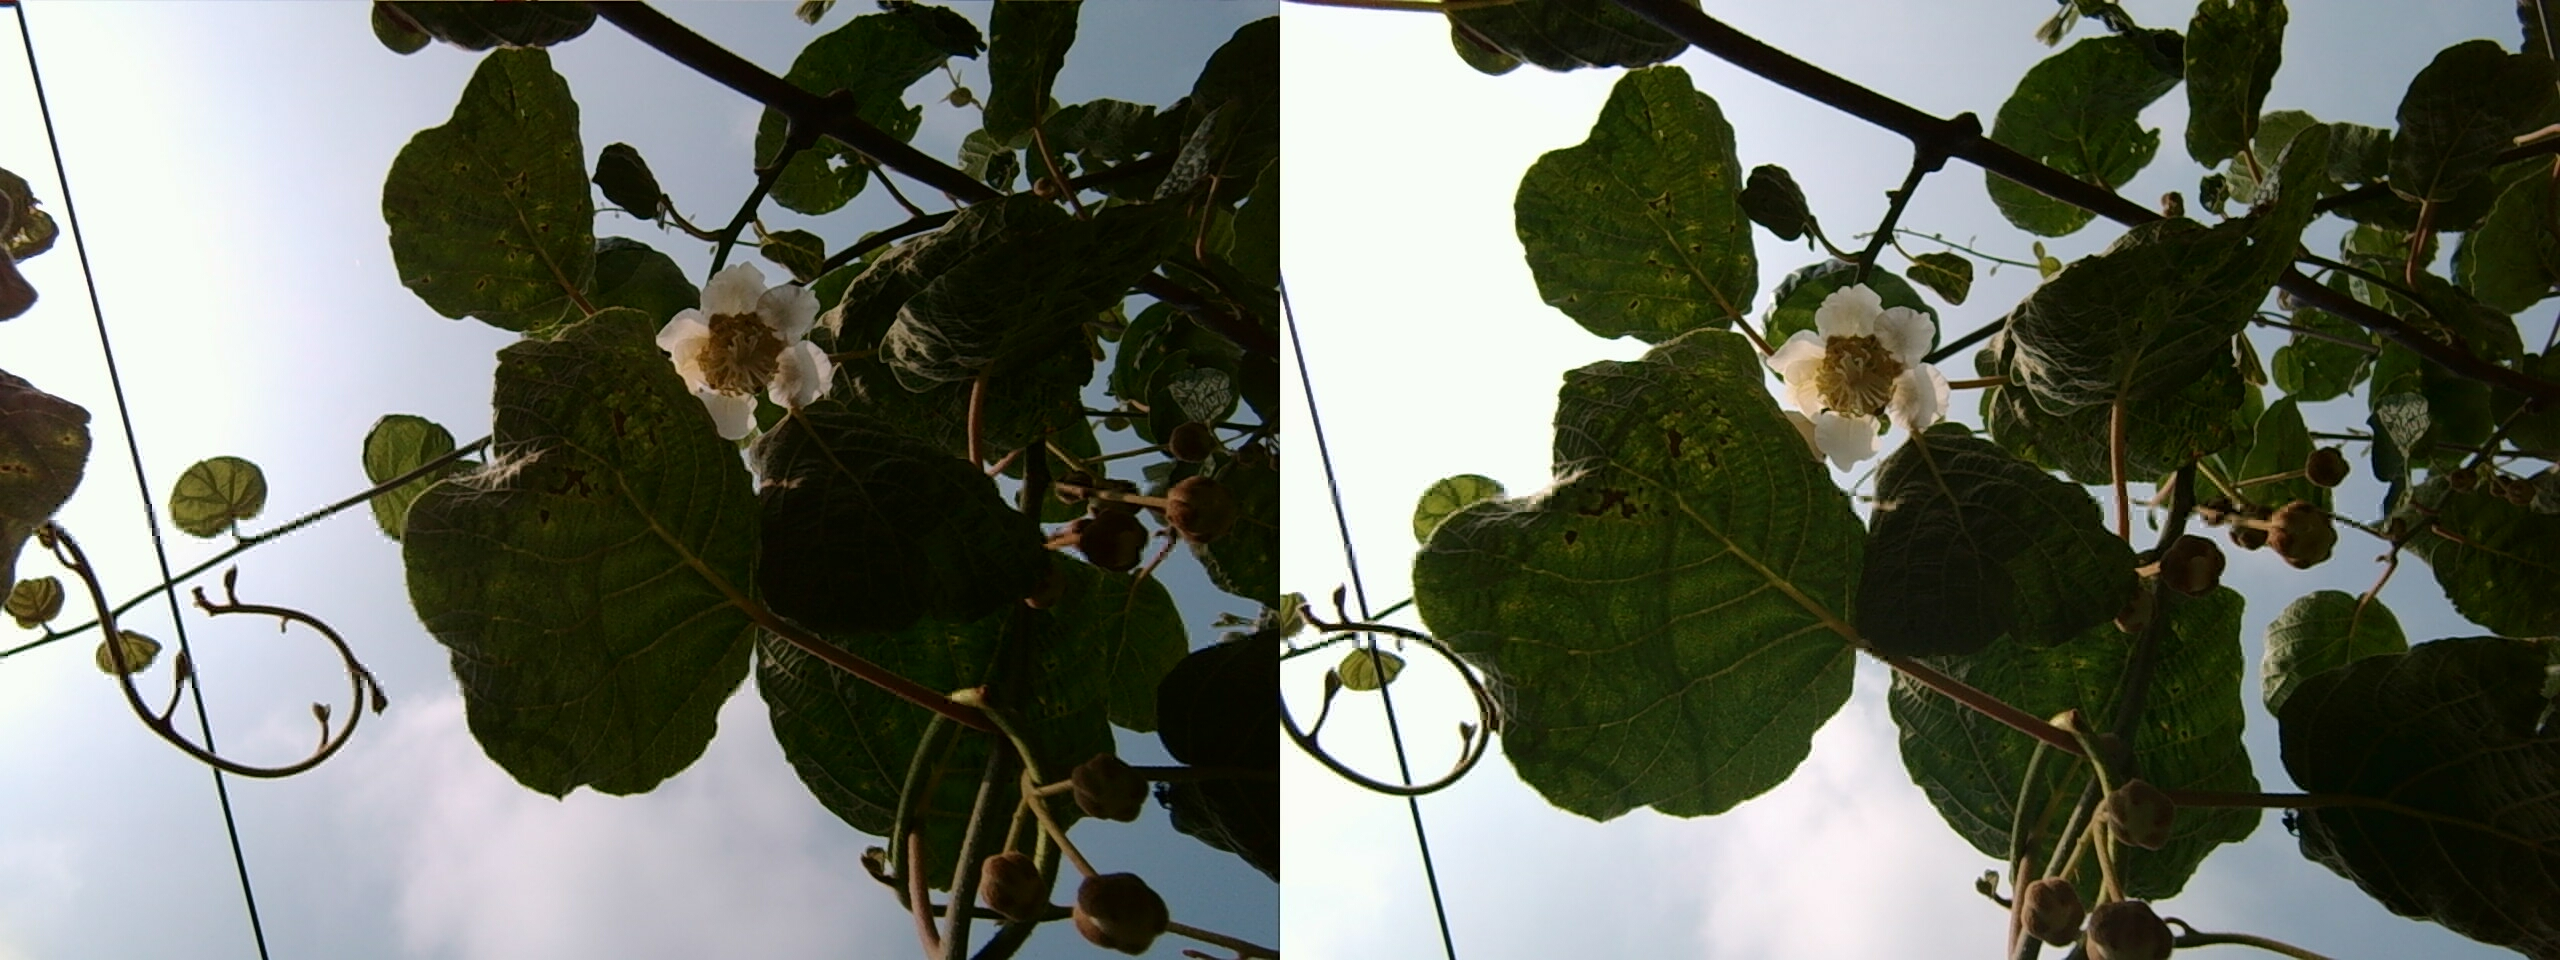flower: (1745, 269, 1951, 478), (650, 258, 836, 434)
